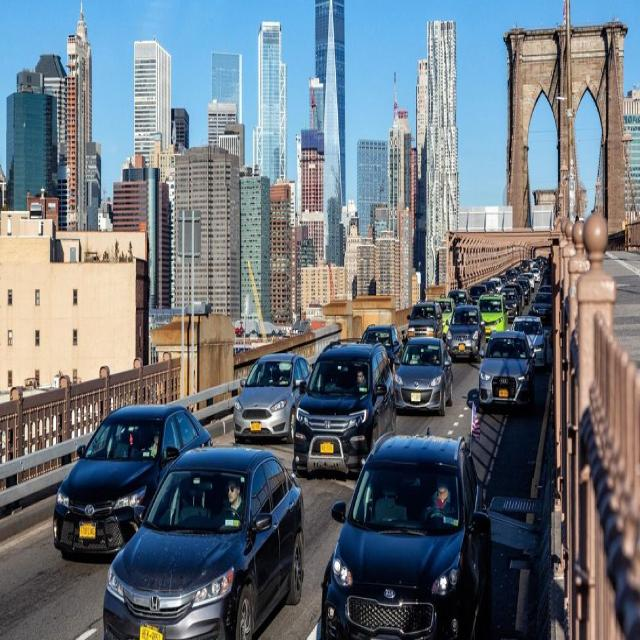car: (105, 443, 307, 640), (322, 430, 497, 640), (54, 400, 212, 551), (298, 338, 396, 474), (231, 353, 310, 441), (392, 334, 456, 415), (478, 326, 533, 406)
